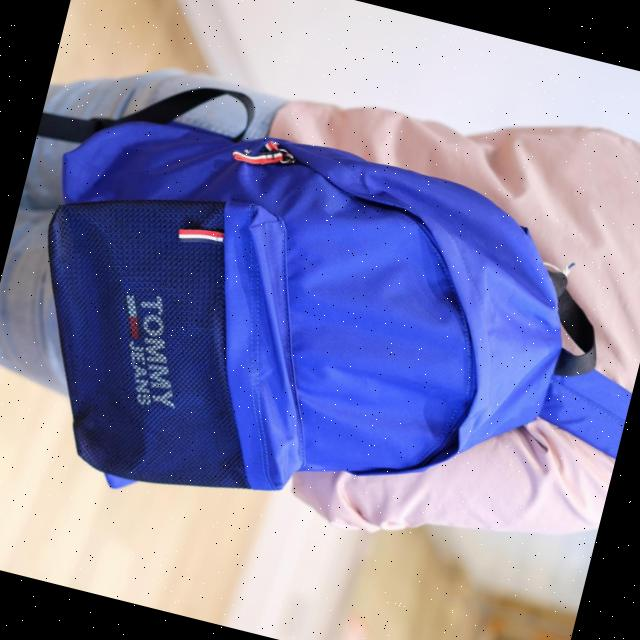Handbag: (0, 89, 586, 566)
